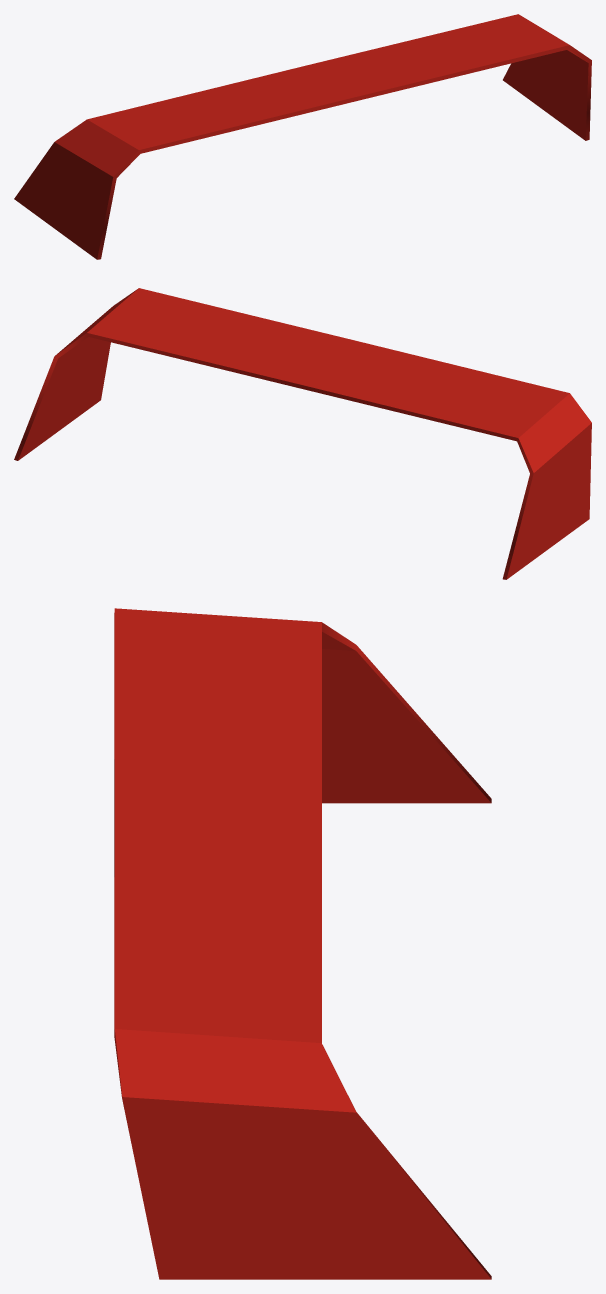
File: stratos_spoiler_1.fbx
3 views of the same model, one above another, from view 1: azimuth 30°, elevation 25°; view 2: azimuth 150°, elevation 25°; view 3: azimuth 270°, elevation 25° (orthographic). The views are drawn at different scales.
Visible parts, largest first — view 1: Cube.001; view 2: Cube.001; view 3: Cube.001.
Part boxes in pixels (bbox=[...]): Cube.001: bbox=[14, 14, 591, 259]; Cube.001: bbox=[14, 288, 591, 579]; Cube.001: bbox=[114, 608, 491, 1279].
Bounding box in the file's own units: 259 × 55.69 × 85.95.
